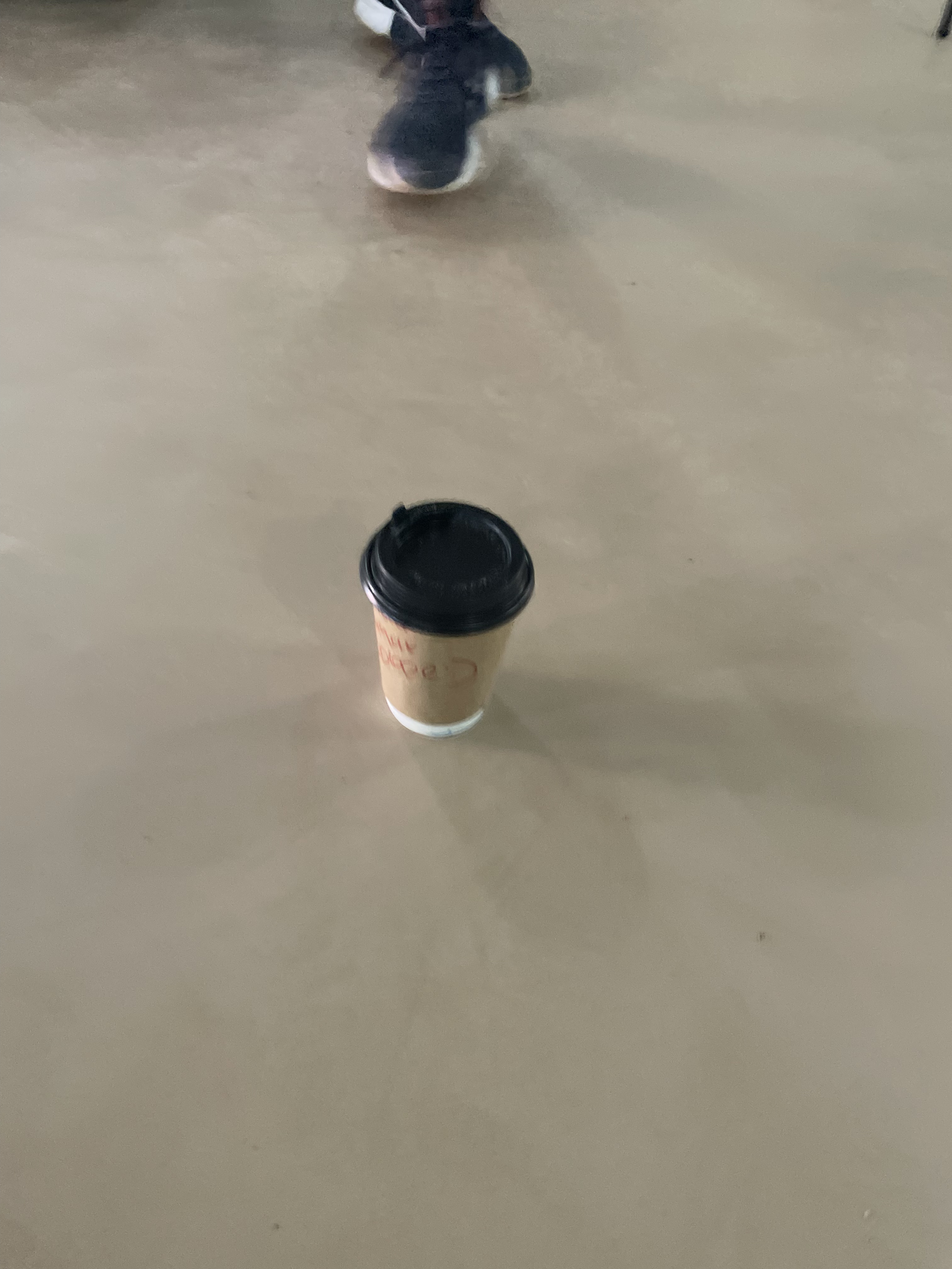cup: (359, 499, 535, 738)
